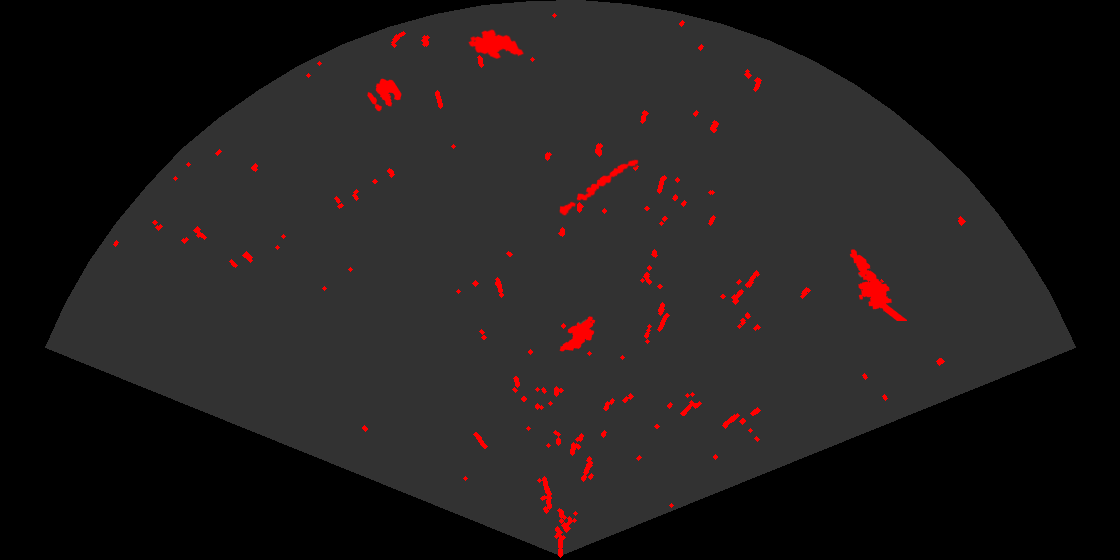AUV: (467, 28, 526, 61), (558, 315, 597, 353)
ball: (366, 77, 403, 113)
chain: (558, 158, 640, 217)
frogman: (848, 248, 907, 321)
